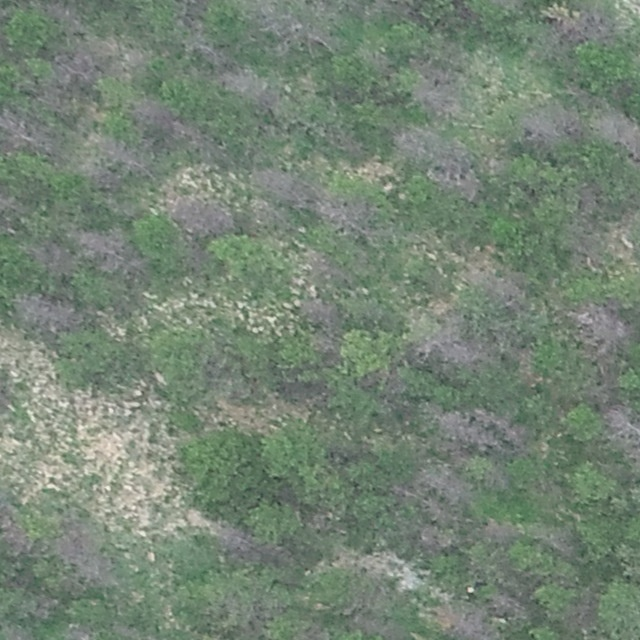unhealthy: (565, 301, 629, 383), (392, 457, 473, 521), (417, 404, 519, 451), (529, 8, 617, 62), (47, 515, 112, 582), (79, 133, 158, 186), (416, 316, 494, 368), (515, 100, 583, 156), (79, 225, 145, 281), (210, 520, 292, 565), (251, 166, 326, 213), (429, 599, 503, 640), (256, 16, 334, 54), (169, 193, 234, 238), (0, 108, 55, 161), (12, 292, 78, 335), (392, 124, 466, 160), (220, 64, 275, 110), (319, 193, 375, 237), (597, 105, 640, 162), (425, 161, 484, 201), (603, 400, 640, 461), (48, 49, 98, 93), (410, 72, 458, 117), (24, 241, 77, 281), (350, 577, 387, 633), (246, 193, 293, 235), (486, 268, 533, 307), (171, 121, 219, 159), (320, 122, 367, 160), (294, 296, 346, 330), (307, 247, 353, 283), (128, 94, 169, 131), (207, 596, 243, 636), (570, 586, 603, 629), (535, 526, 575, 561), (0, 513, 30, 554), (564, 220, 595, 257), (0, 186, 22, 237), (494, 591, 531, 619), (420, 524, 454, 553), (481, 519, 521, 541), (29, 595, 57, 624), (579, 182, 599, 219), (184, 240, 207, 272), (308, 329, 336, 351)
